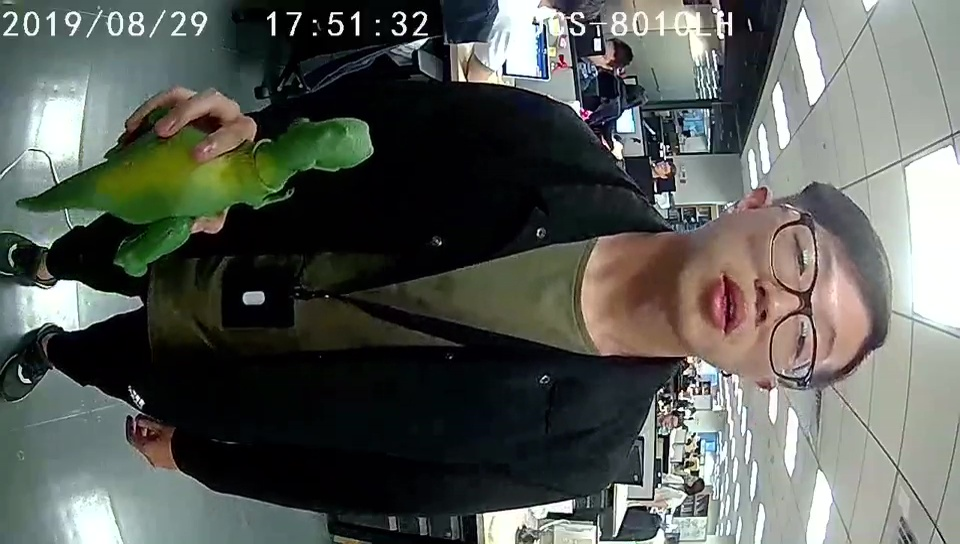rex: (82, 111, 373, 277)
